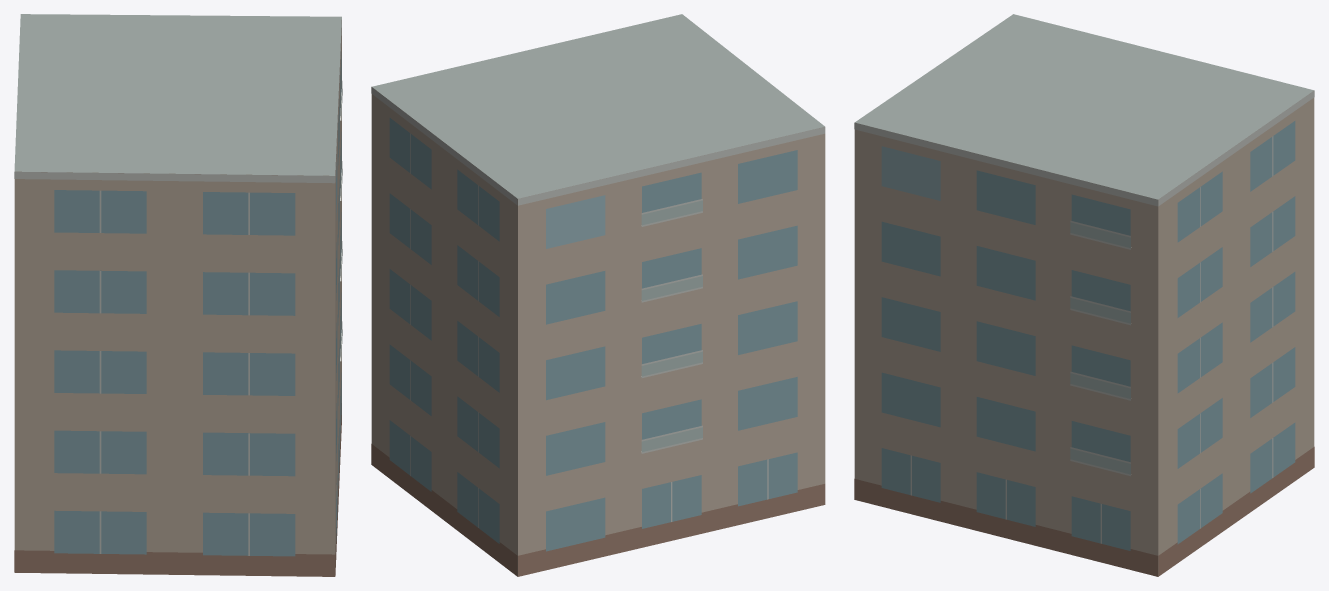
The model's file is survey-upis-33014995.glb.
The picture shows the model from 3 angles, left to right: view 1: azimuth 30°, elevation 25°; view 2: azimuth 150°, elevation 25°; view 3: azimuth 270°, elevation 25°; orthographic projection. The views are drawn at different scales.
Visible parts, largest first — view 1: survey-upis-33014995.tmp; view 2: survey-upis-33014995.tmp; view 3: survey-upis-33014995.tmp.
Boxes of the visible parts, bbox=[...] form: survey-upis-33014995.tmp: bbox=[14, 14, 342, 576]; survey-upis-33014995.tmp: bbox=[371, 14, 825, 576]; survey-upis-33014995.tmp: bbox=[854, 14, 1314, 576].
Bounding box in the file's own units: 14.1 × 13.35 × 14.76.
